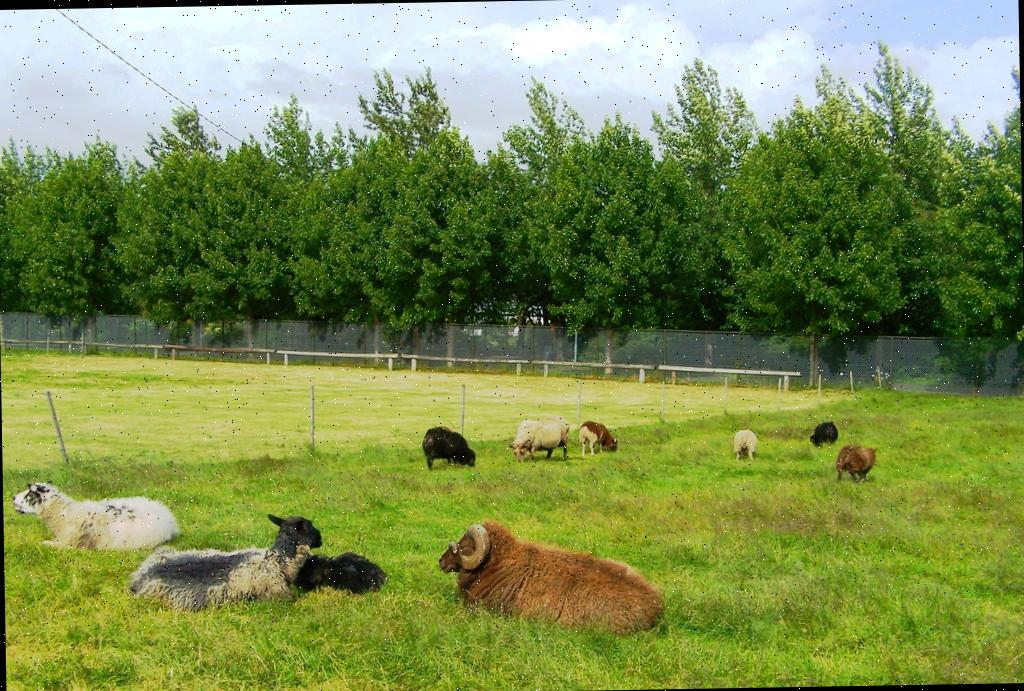Sheep: (436, 513, 672, 650), (108, 505, 344, 618), (2, 473, 210, 562), (288, 544, 396, 601), (506, 412, 574, 466), (420, 420, 480, 474), (832, 436, 880, 496), (576, 418, 620, 462), (720, 426, 761, 468), (806, 412, 845, 456)
